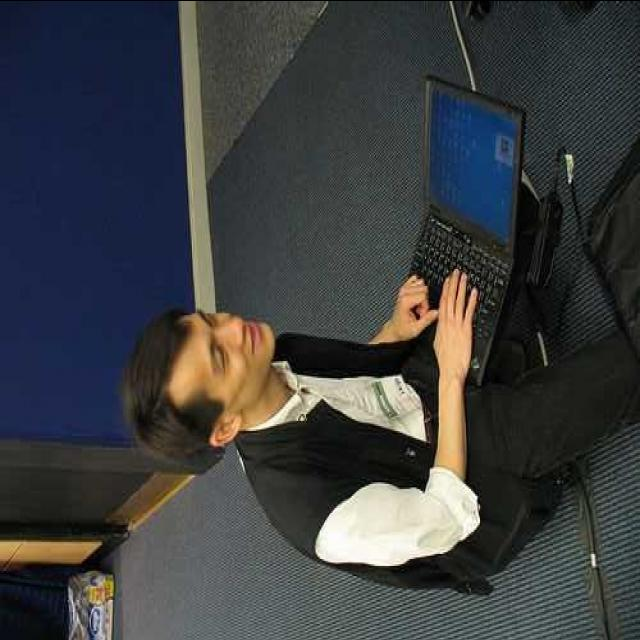laptop: (406, 61, 556, 347)
